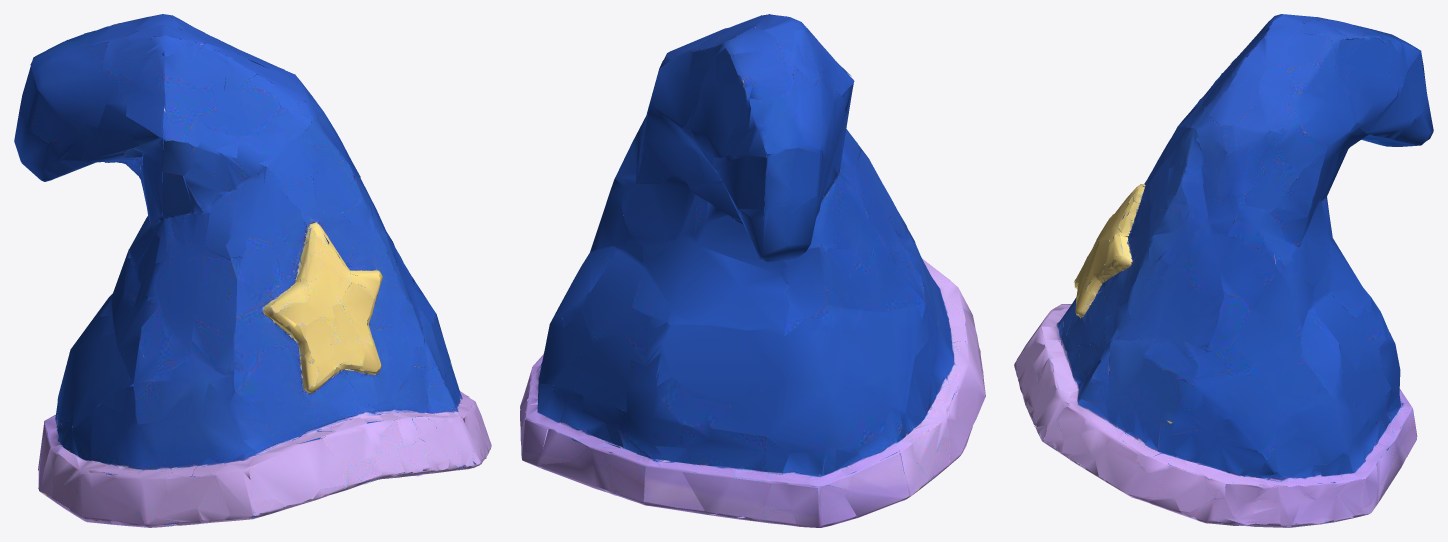
The model's file is hat.glb.
3 views of the same model, side by side, from view 1: azimuth 30°, elevation 25°; view 2: azimuth 150°, elevation 25°; view 3: azimuth 270°, elevation 25° (orthographic). The views are drawn at different scales.
Parts seen in each view (by area): view 1: hat; view 2: hat; view 3: hat.
Boxes of the visible parts, box(x1,y1,x2,y2) form: hat: box(14, 14, 491, 527); hat: box(520, 14, 985, 527); hat: box(1014, 14, 1433, 527).
Size of the model in its own units: 1.46 by 1.63 by 1.51.
1 material, 1 textured.
